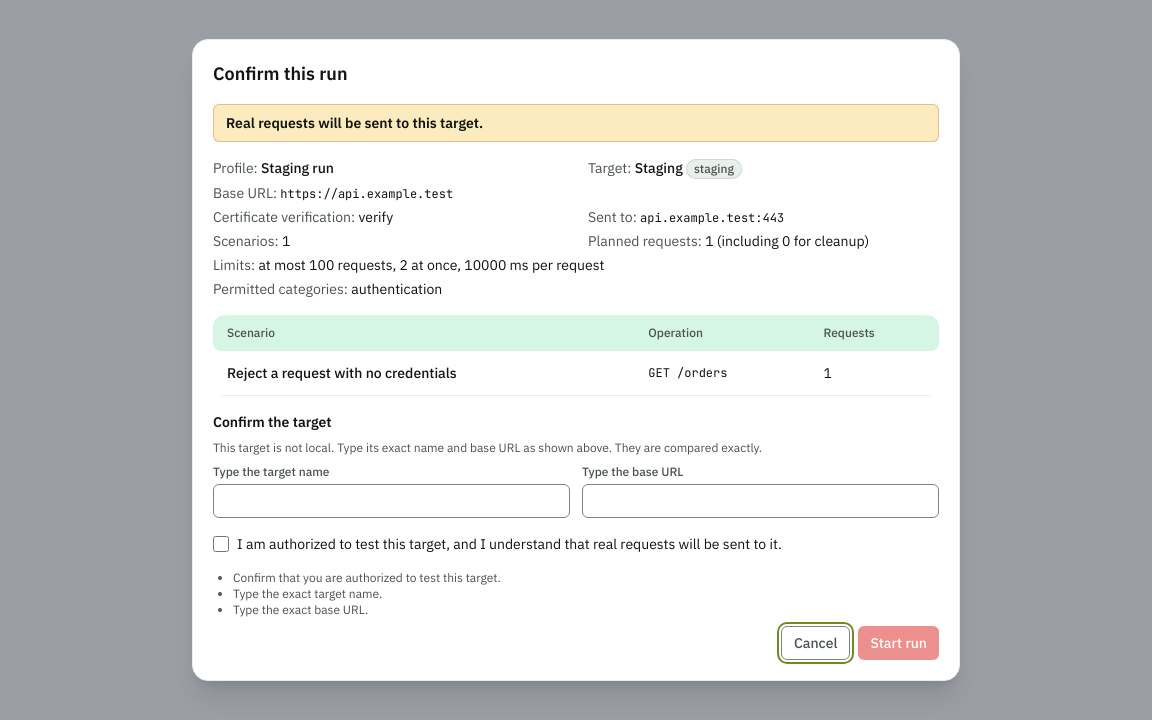
Test: RunPlanDialog (T106, FR-041 to FR-045) › requires the exact target name and base URL for a staging target
Click the checkbox labelled "I am authorized to test this target".
click(221, 544)  # box [213,536,229,552]
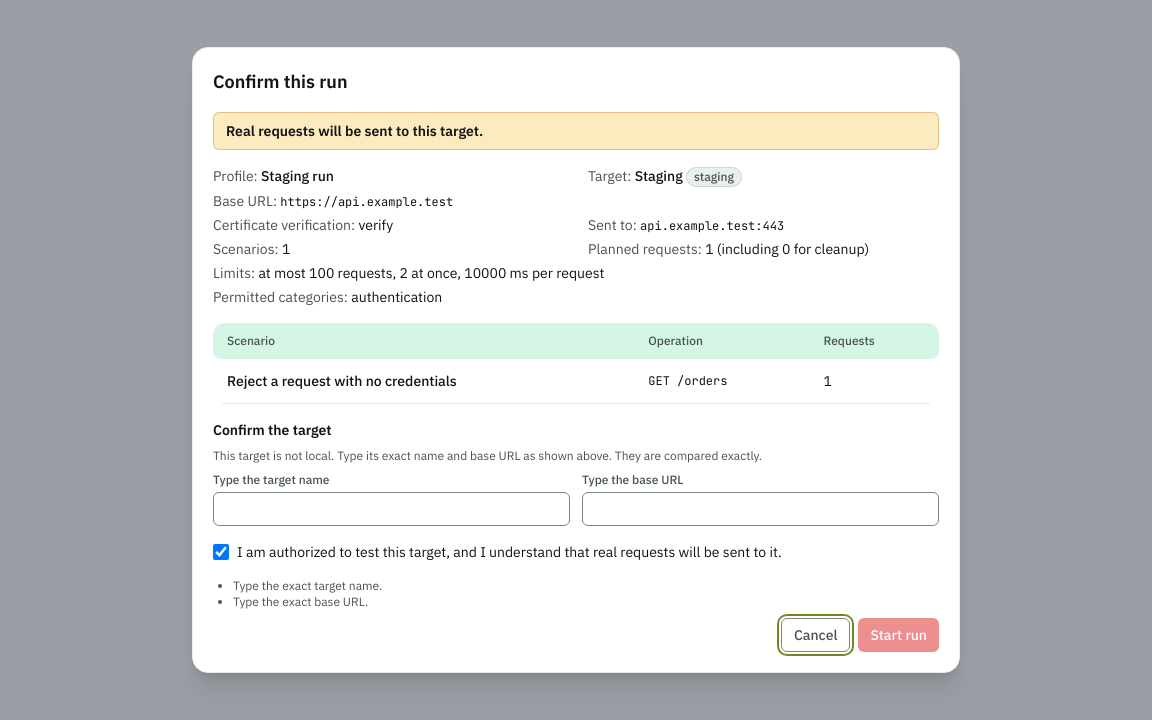
Expected: the element with test id "retype-target" is shown, [213,420,939,526]
Expected: the button "Start run" is disabled, [858,618,939,652]
Type "Staging" into the field labelled "Type the target name".
click(392, 509); type("Staging")  # box [213,492,570,526]
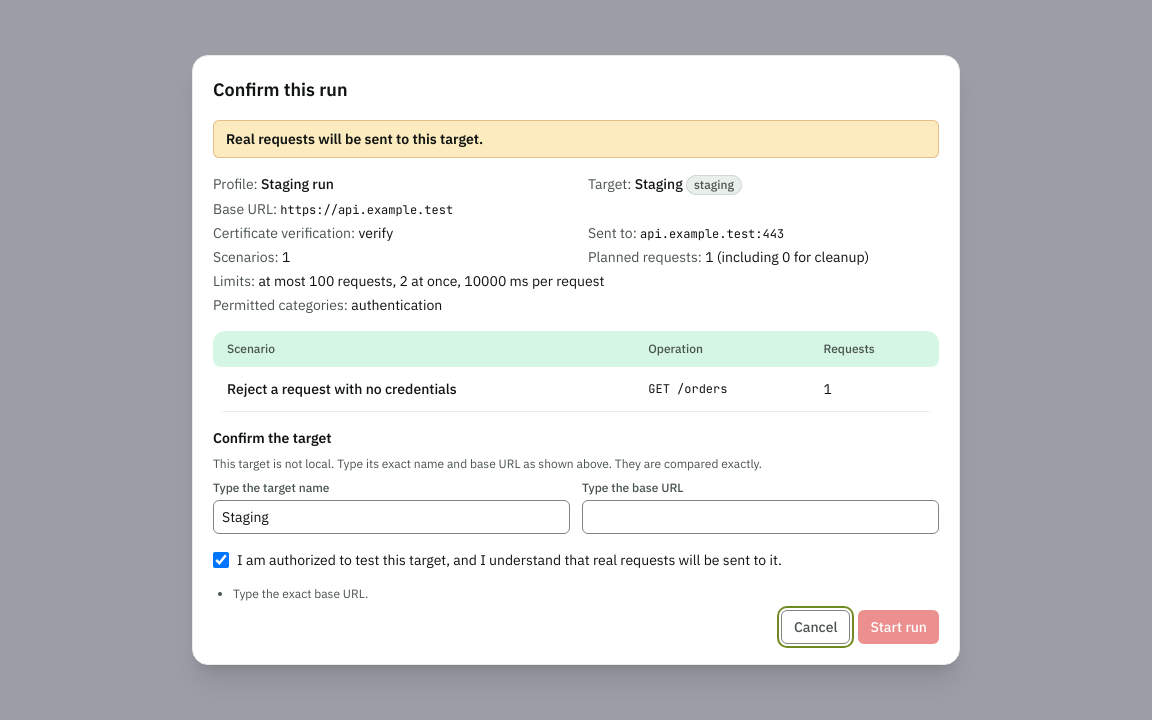
Type "https://api.example.test" into the field labelled "Type the base URL".
click(760, 517); type("https://api.example.test")  # box [582,500,939,534]
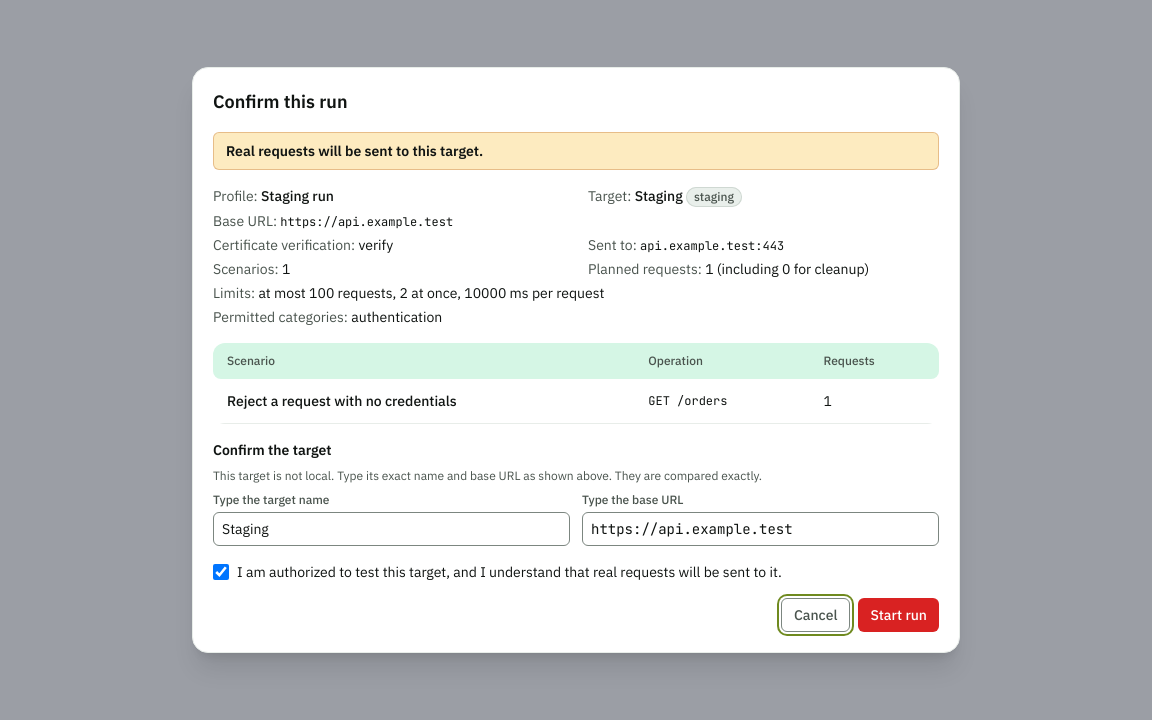
Expected: the button "Start run" is enabled, [858,598,939,632]
